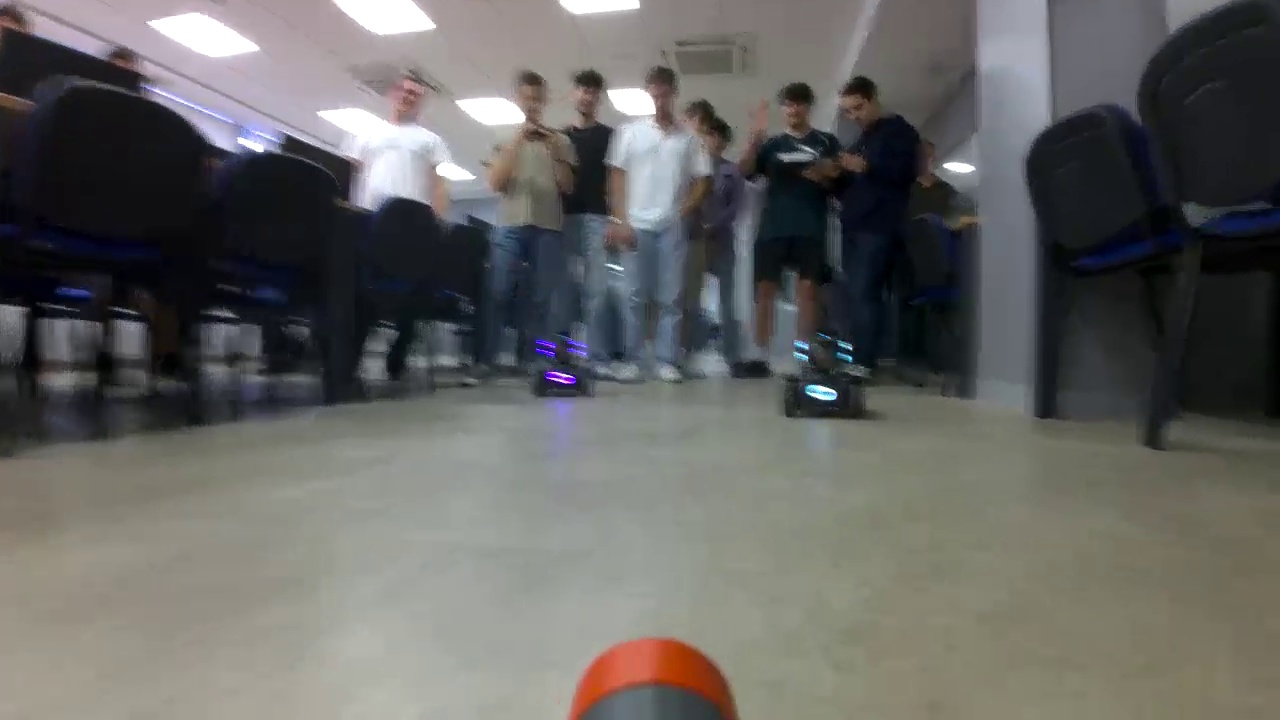robot: (783, 330, 871, 420), (528, 335, 600, 398)
